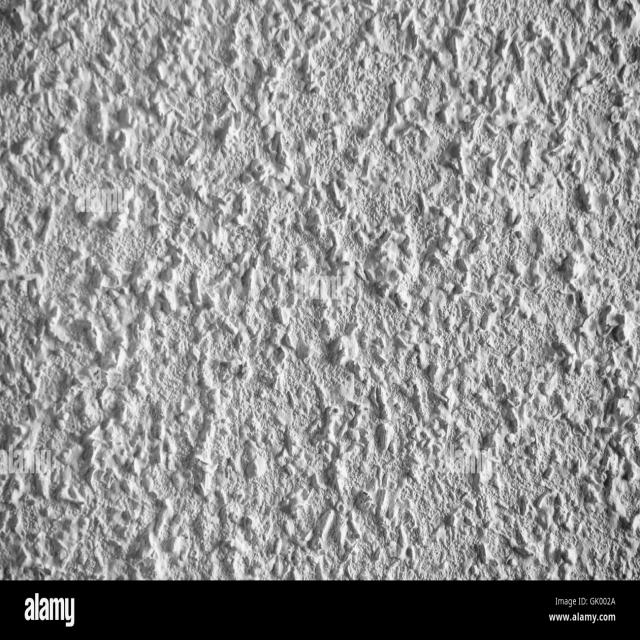rough and patchy surface: (0, 0, 640, 581)
